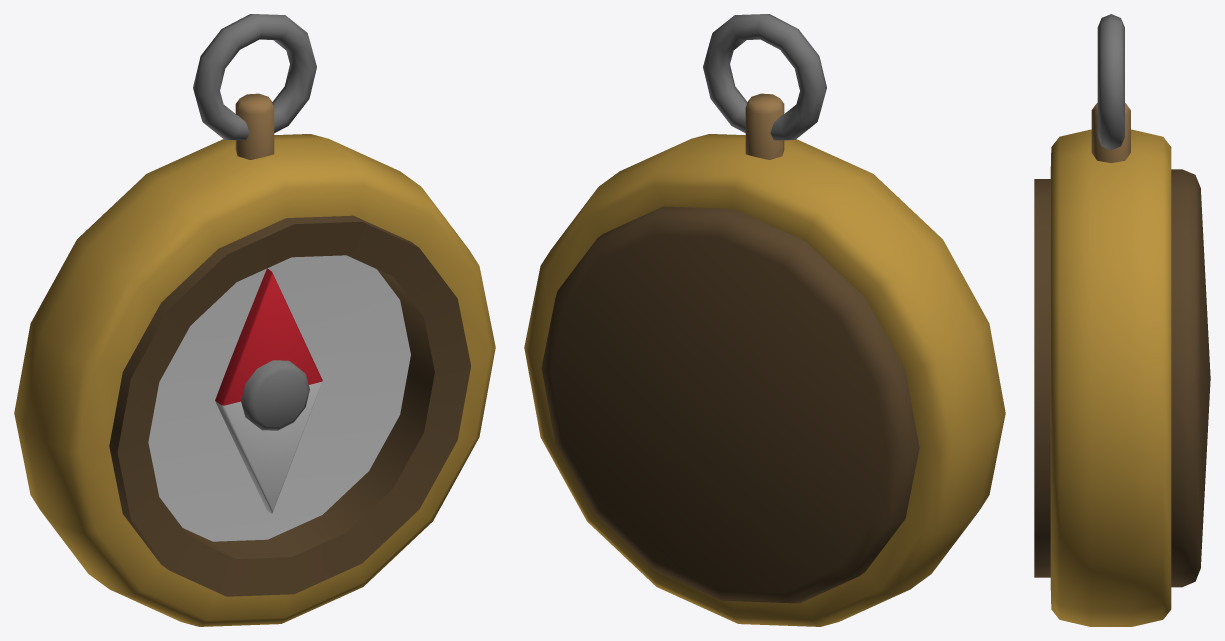
The model's file is bussola.fbx.
3 renders of one model, left to right at view 1: azimuth 30°, elevation 25°; view 2: azimuth 150°, elevation 25°; view 3: azimuth 270°, elevation 25°, orthographic. The views are drawn at different scales.
Parts seen in each view (by area): view 1: Bussola; view 2: Bussola; view 3: Bussola.
Part boxes in pixels (x1,y1,x2,y2): Bussola: [14, 14, 495, 626]; Bussola: [524, 14, 1005, 626]; Bussola: [1034, 14, 1210, 626].
Bounding box in the file's own units: 18.95 × 24.52 × 6.71.
